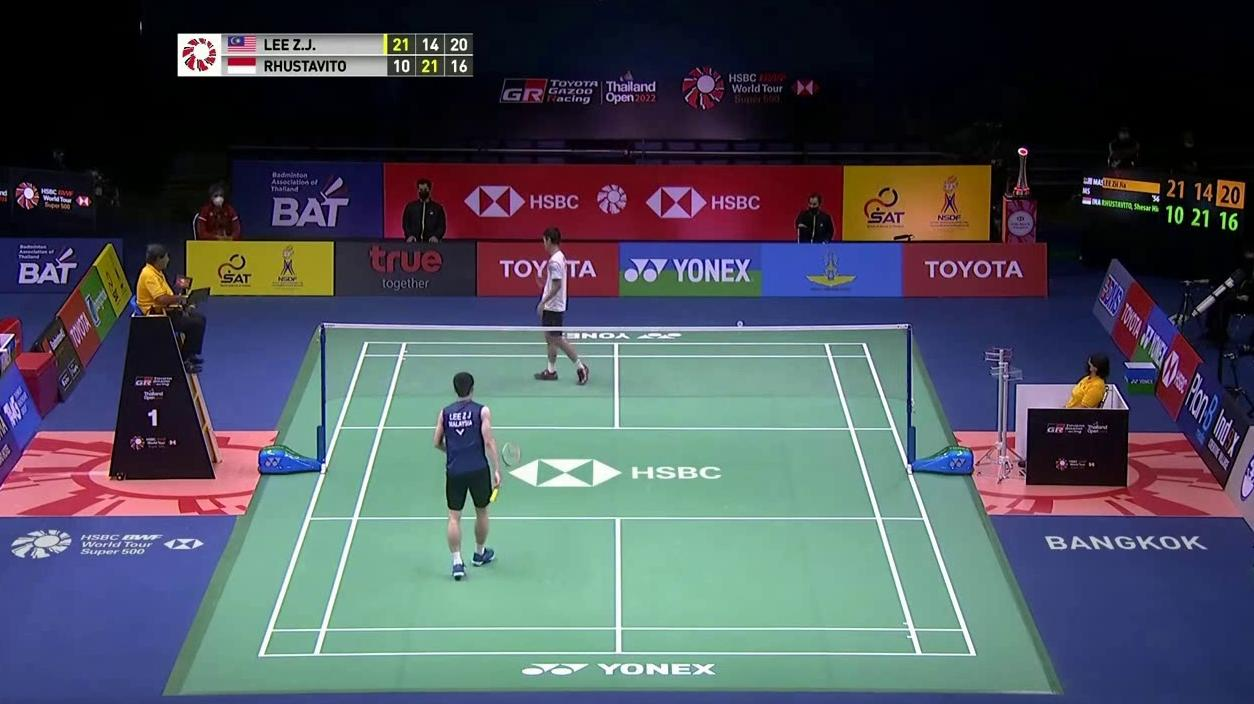racket: (488, 438, 524, 505), (534, 268, 550, 287)
shuttle: (735, 318, 746, 330)
